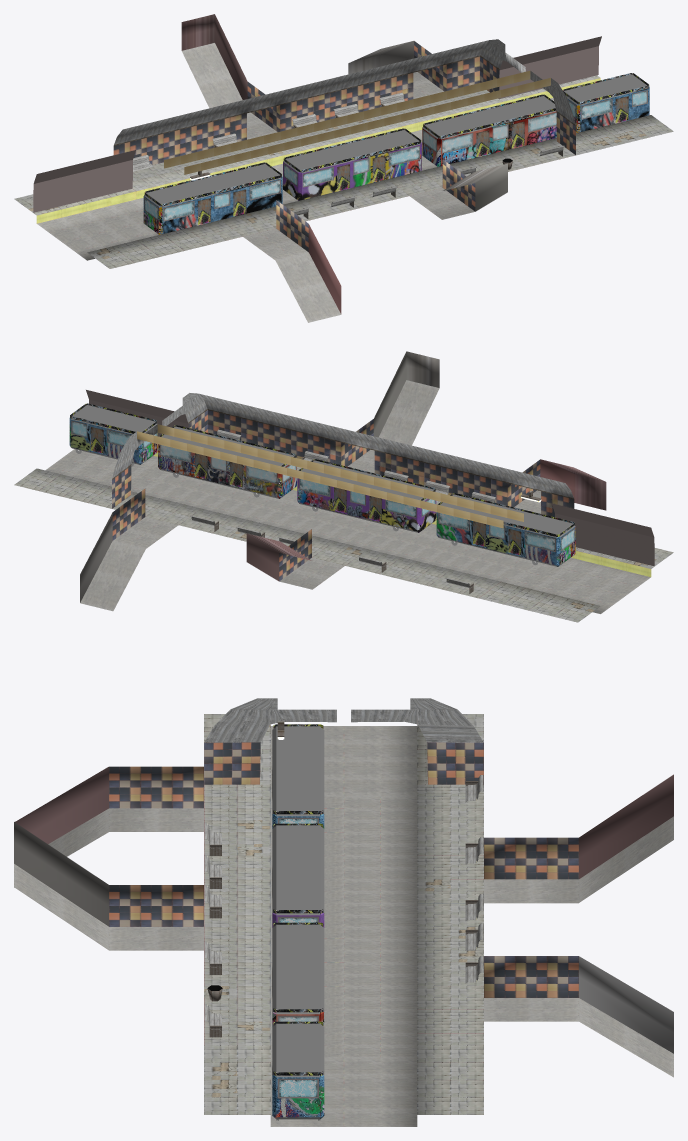
File: train.glb
3 views of the same model, one above another, from view 1: azimuth 30°, elevation 25°; view 2: azimuth 150°, elevation 25°; view 3: azimuth 270°, elevation 25° (orthographic). The views are drawn at different scales.
Visible parts, largest first — view 1: Plane, Plane.022, Wagon.003, Wagon.002, Wagon, Wagon.001; view 2: Plane.022, Plane, Wagon.003, Wagon.002, Wagon, Wagon.001; view 3: Plane.022, Plane, Wagon, Wagon.002, Wagon.001, Wagon.003.
Part boxes in pixels (x1=…): Plane: x1=33, y1=14, x2=601, y2=313; Plane.022: x1=14, y1=43, x2=673, y2=322; Wagon.003: x1=143, y1=162, x2=282, y2=234; Wagon.002: x1=283, y1=128, x2=421, y2=200; Wagon: x1=422, y1=94, x2=556, y2=166; Wagon.001: x1=562, y1=73, x2=649, y2=132; Plane.022: x1=14, y1=380, x2=673, y2=622; Plane: x1=80, y1=351, x2=654, y2=602; Wagon.003: x1=436, y1=493, x2=575, y2=566; Wagon.002: x1=297, y1=459, x2=436, y2=532; Wagon: x1=158, y1=425, x2=296, y2=498; Wagon.001: x1=69, y1=403, x2=157, y2=464; Plane.022: x1=14, y1=714, x2=673, y2=1126; Plane: x1=14, y1=698, x2=673, y2=1053; Wagon: x1=272, y1=922, x2=324, y2=1026; Wagon.002: x1=272, y1=823, x2=324, y2=927; Wagon.001: x1=272, y1=1021, x2=324, y2=1119; Wagon.003: x1=272, y1=724, x2=324, y2=828.
Bounding box in the file's own units: 73.11 × 13.66 × 50.71.
6 materials, 6 textured.
